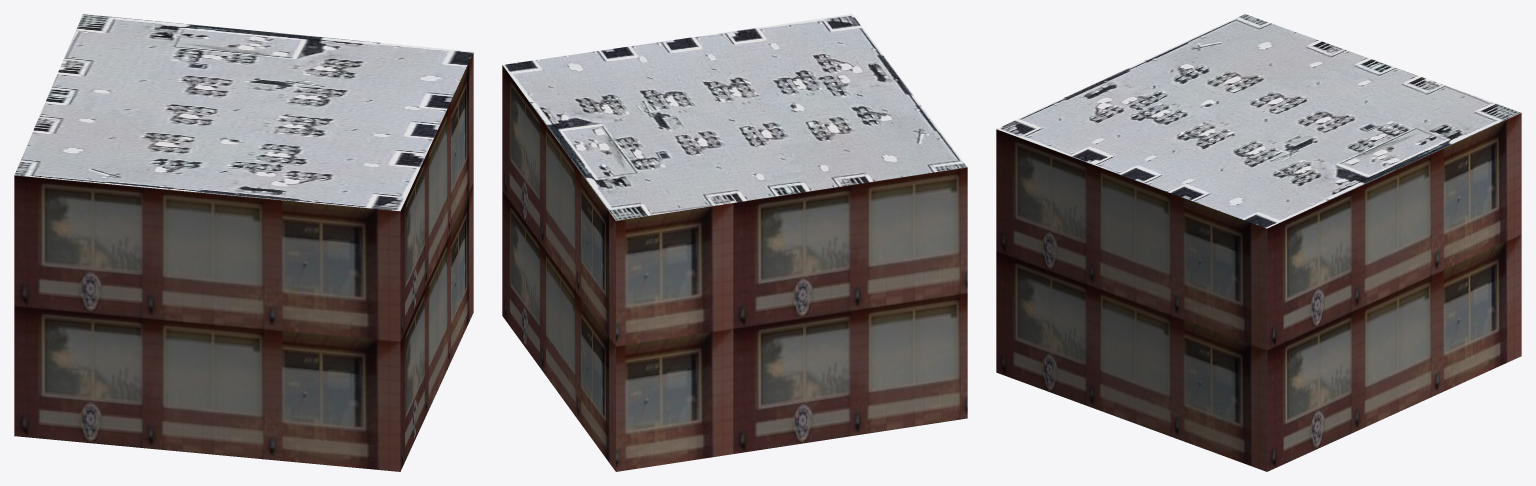
File: ResTex__4242.fbx
3 views of the same model, side by side, from view 1: azimuth 30°, elevation 25°; view 2: azimuth 150°, elevation 25°; view 3: azimuth 270°, elevation 25° (orthographic). The views are drawn at different scales.
Visible parts, largest first — view 1: CityEngineMaterial_13_m, CityEngineMaterial_2_m; view 2: CityEngineMaterial_13_m, CityEngineMaterial_2_m; view 3: CityEngineMaterial_13_m, CityEngineMaterial_2_m.
Boxes of the visible parts, box(x1,y1,x2,y2) form: CityEngineMaterial_13_m: box(14, 52, 473, 471); CityEngineMaterial_2_m: box(14, 14, 473, 211); CityEngineMaterial_13_m: box(502, 65, 967, 471); CityEngineMaterial_2_m: box(502, 14, 966, 220); CityEngineMaterial_13_m: box(996, 113, 1521, 471); CityEngineMaterial_2_m: box(996, 14, 1521, 228).
Bounding box in the file's own units: 11.35 × 6 × 11.74.
2 materials, 2 textured.
